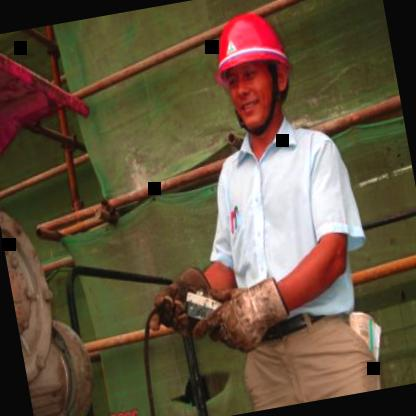helmet: (194, 0, 318, 150)
